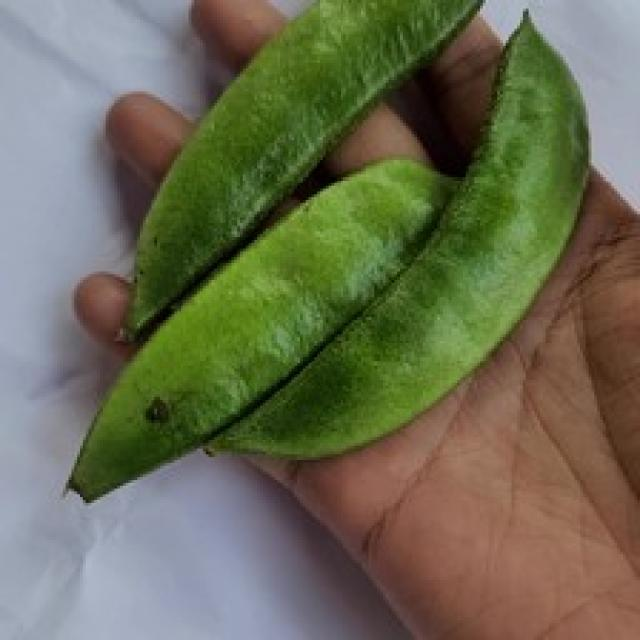Bean: (60, 0, 591, 503)
